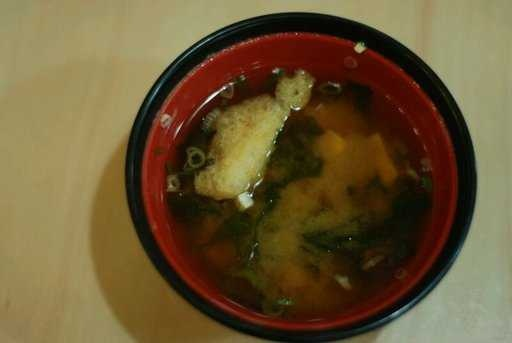soup: (162, 52, 435, 316)
